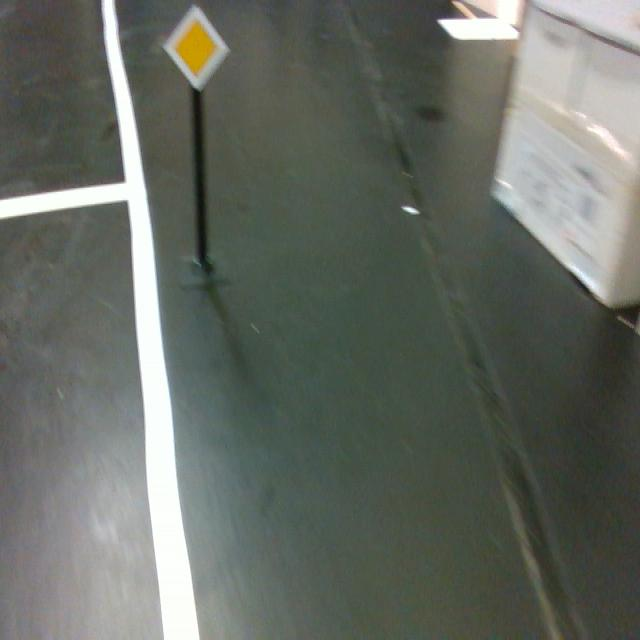priority-sign: (160, 2, 232, 94)
